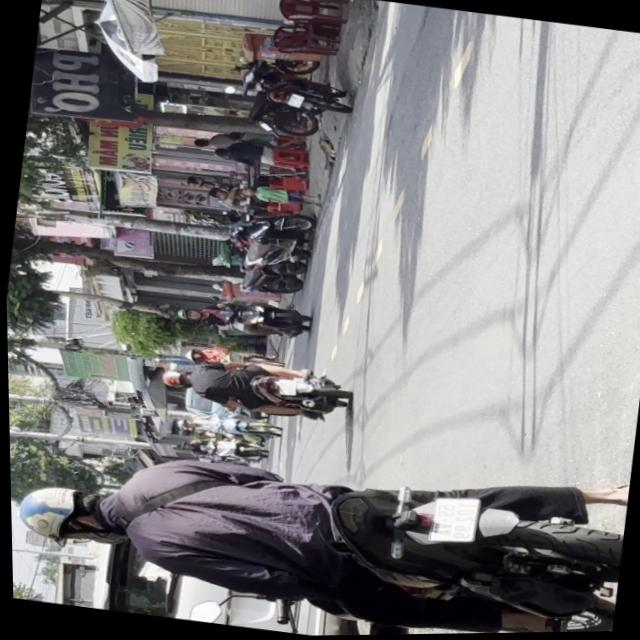helmet: (11, 477, 122, 549), (157, 367, 189, 388)
licenseplate: (7, 406, 626, 640), (154, 346, 354, 428)
nohelmet: (426, 494, 477, 545), (275, 379, 296, 397)
